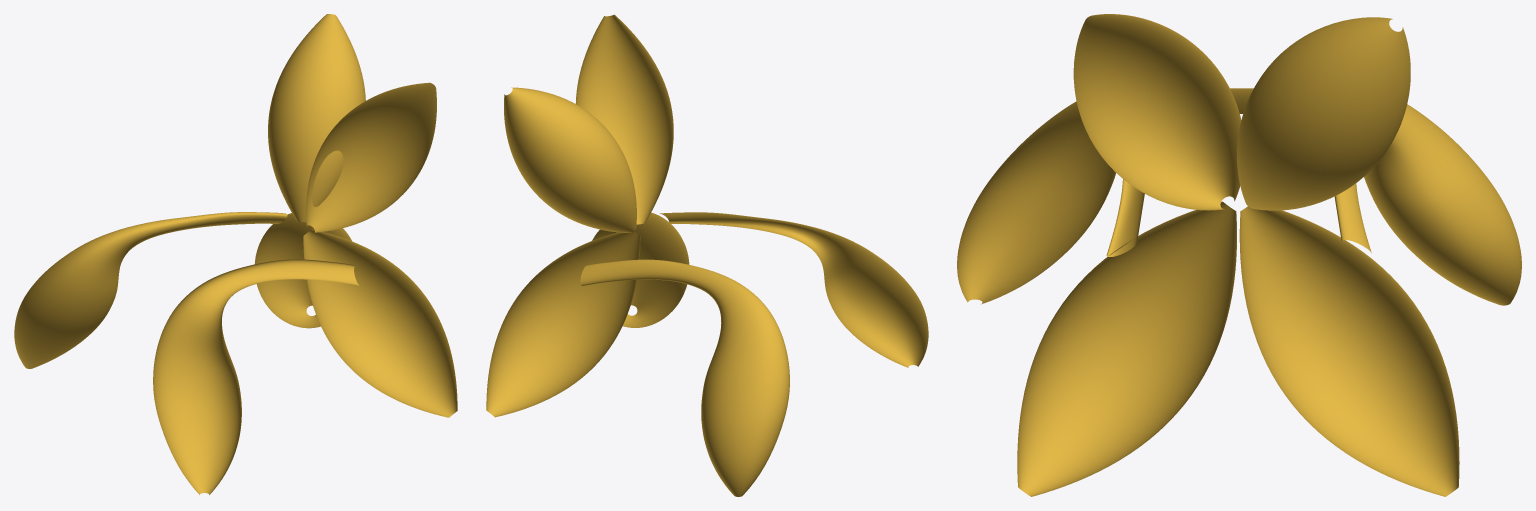
The model's file is reverence-chair.glb.
3 renders of one model, left to right at view 1: azimuth 30°, elevation 25°; view 2: azimuth 150°, elevation 25°; view 3: azimuth 270°, elevation 25°, orthographic. The views are drawn at different scales.
Parts seen in each view (by area): view 1: Layer 05_4, Layer 05_3, Layer 05_1, Layer 05_0, Layer 05_5, Layer 05_2; view 2: Layer 05_5, Layer 05_2, Layer 05_0, Layer 05_4, Layer 05_1, Layer 05_3; view 3: Layer 05_2, Layer 05_3, Layer 05_0, Layer 05_1, Layer 05_4, Layer 05_5.
Part boxes in pixels (x1,y1,x2,y2): Layer 05_4: (153, 259, 359, 494); Layer 05_3: (303, 229, 457, 417); Layer 05_1: (306, 82, 436, 232); Layer 05_0: (268, 14, 365, 222); Layer 05_5: (14, 212, 287, 368); Layer 05_2: (255, 213, 351, 328); Layer 05_5: (580, 259, 789, 496); Layer 05_2: (486, 231, 640, 417); Layer 05_0: (504, 87, 636, 232); Layer 05_4: (660, 212, 928, 367); Layer 05_1: (575, 14, 673, 224); Layer 05_3: (592, 212, 689, 327); Layer 05_2: (1239, 206, 1459, 496); Layer 05_3: (1017, 201, 1236, 496); Layer 05_0: (1237, 17, 1410, 210); Layer 05_1: (1073, 14, 1241, 210); Layer 05_4: (957, 101, 1144, 304); Layer 05_5: (1334, 104, 1521, 305).
Size of the model in its own units: 0.8169 by 0.821 by 0.8743.
